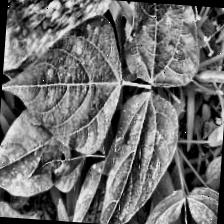Bean Rust: (14, 6, 128, 157), (104, 90, 182, 224), (124, 1, 204, 94), (0, 108, 61, 197), (70, 154, 106, 224)
